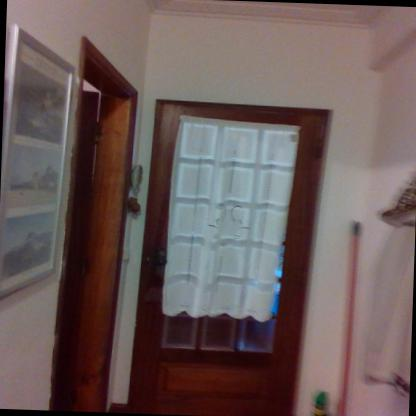closed: (119, 84, 352, 413)
